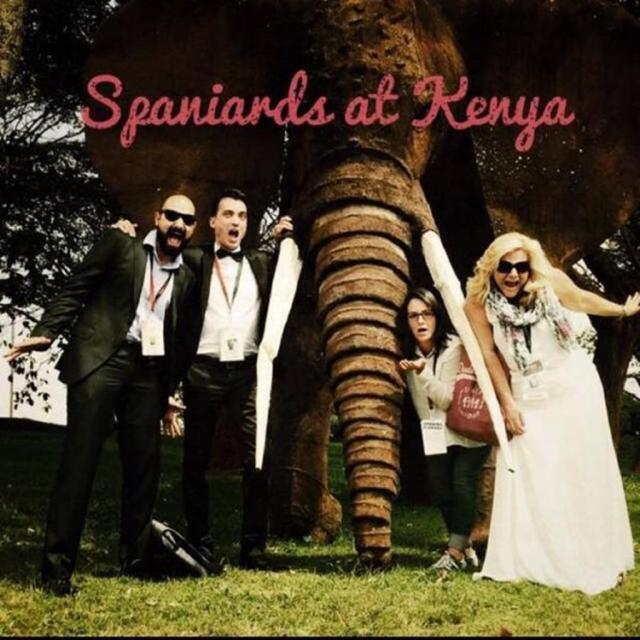elephant: (70, 91, 562, 563)
